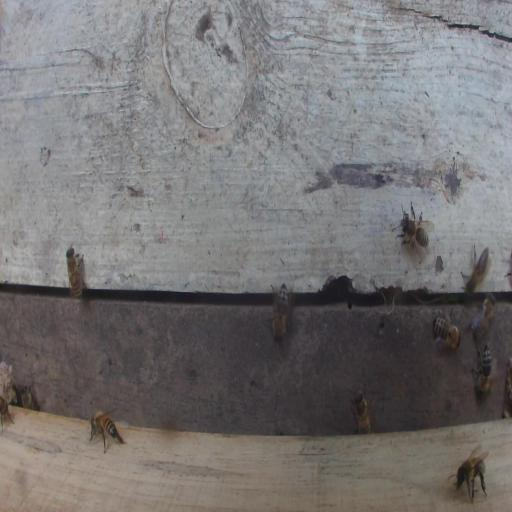nonpollenbee: (391, 203, 434, 262), (451, 442, 489, 504), (89, 408, 125, 454), (460, 243, 490, 293), (470, 292, 496, 341), (271, 281, 290, 342), (65, 244, 86, 299), (472, 342, 492, 396), (432, 315, 462, 350), (351, 388, 371, 434), (502, 358, 512, 416), (0, 394, 15, 430), (20, 384, 38, 411), (480, 344, 492, 379)
